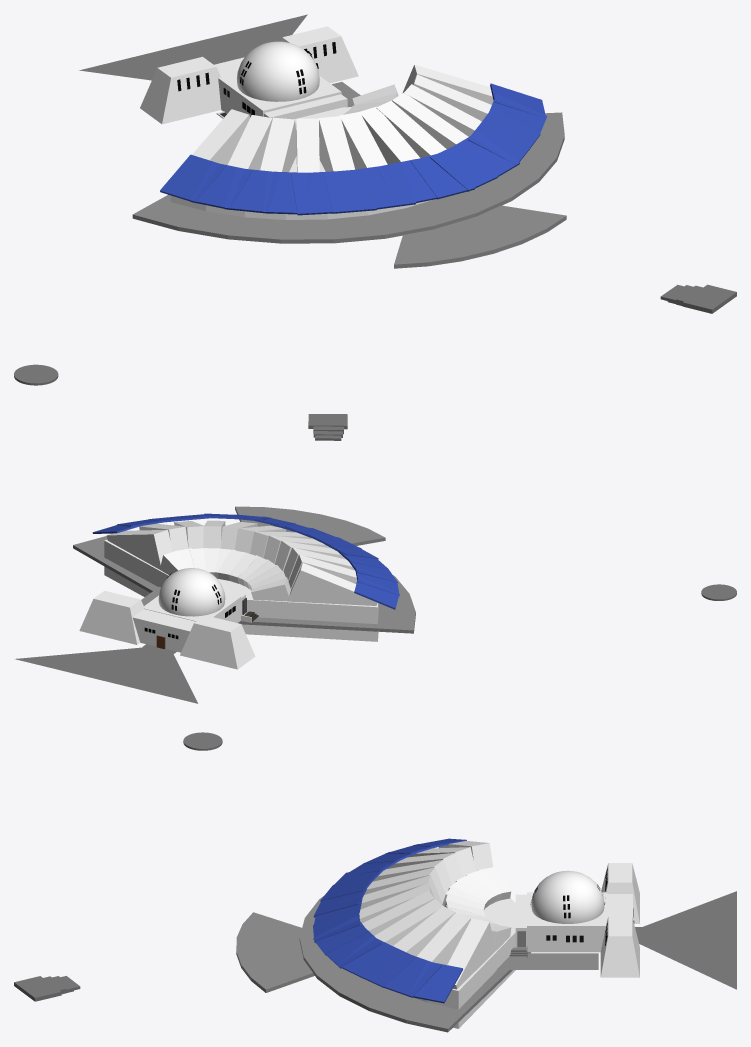
Rendered from nyasta_asmundarsafnid.obj.
3 renders of one model, top to bottom at view 1: azimuth 30°, elevation 25°; view 2: azimuth 150°, elevation 25°; view 3: azimuth 270°, elevation 25°, orthographic. The views are drawn at different scales.
Parts seen in each view (by area): view 1: Cube.047, Cube.033, Cylinder.001, Cylinder.002, Plane, Sphere, h_hlid, v_hlid, innanhus, syningarsalur, Cube, Cube.019 (+1 smaller); view 2: Cube.033, syningarsalur, Plane, Cube.047, Cylinder.001, h_hlid, Sphere, v_hlid, Cylinder.002, adaldyr, Cube, innanhus (+1 smaller); view 3: Cube.033, Cube.047, Plane, Cylinder.001, Cylinder.002, Sphere, innanhus, syningarsalur, v_hlid, Plane.001, h_hlid, Cube (+3 smaller).
Part boxes in pixels (x1,y1,x2,y2): Cube.047: (160,83,547,215); Cube.033: (192,64,493,172); Cylinder.001: (132,112,564,243); Cylinder.002: (394,205,566,268); Plane: (79,14,307,80); Sphere: (236,41,319,101); h_hlid: (140,56,221,124); v_hlid: (280,26,358,83); innanhus: (218,72,341,117); syningarsalur: (170,107,433,219); Cube: (660,284,736,313); Cube.019: (263,94,347,119); Cube.033: (106,520,377,605); syningarsalur: (104,539,378,641); Plane: (15,644,198,703); Cube.047: (92,513,399,609); Cylinder.001: (73,536,415,633); h_hlid: (180,615,255,669); Sphere: (158,568,225,616); v_hlid: (79,590,144,644); Cylinder.002: (235,506,385,545); adaldyr: (132,609,195,652); Cube: (308,414,347,440); innanhus: (144,592,241,622); Cube.033: (359,841,511,989); Cube.047: (313,838,466,1003); Plane: (635,891,736,989); Cylinder.001: (299,896,530,1032); Cylinder.002: (236,912,314,992); Sphere: (531,870,604,923); innanhus: (527,892,607,952); syningarsalur: (414,898,515,1028); v_hlid: (600,917,639,977); Plane.001: (496,953,598,969); h_hlid: (601,863,639,923); Cube: (14,976,80,1001).
Bounding box in the file's own units: 71.2 × 9.13 × 73.85.
